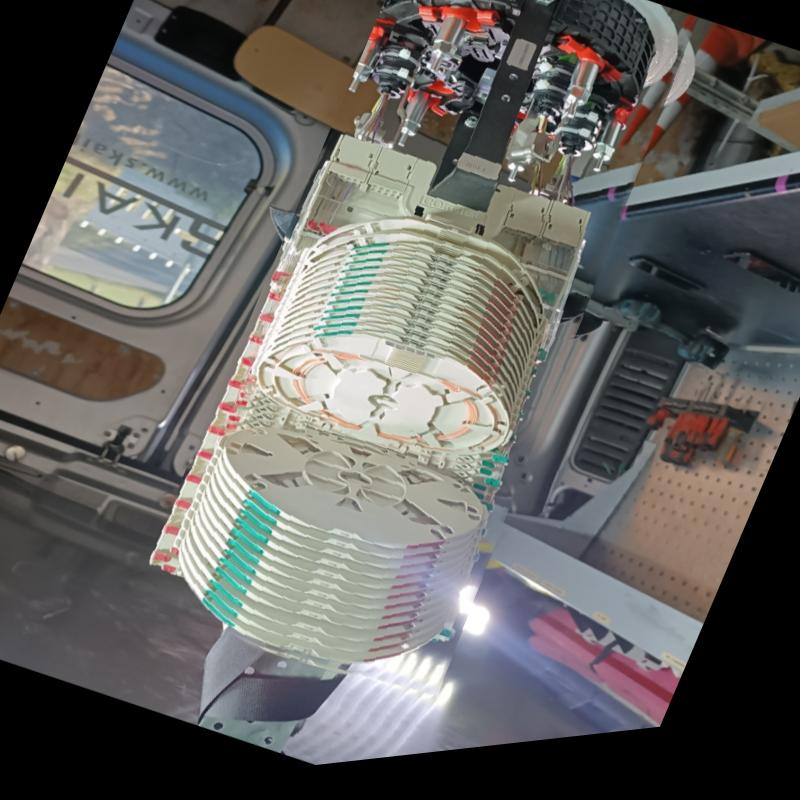NT-Muffen: (126, 0, 721, 747)
